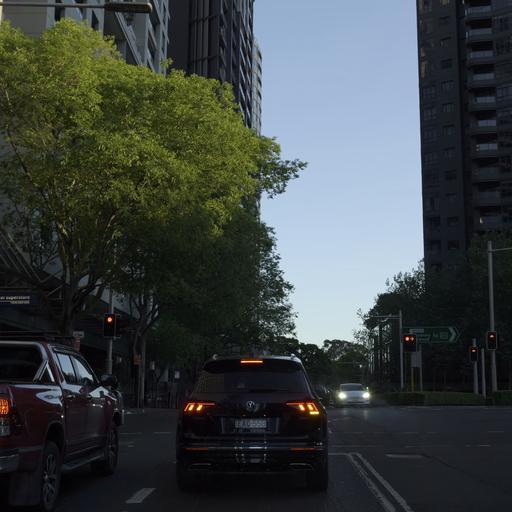Street light: (485, 238, 511, 394), (364, 309, 404, 390), (0, 0, 153, 15), (102, 312, 116, 337)
